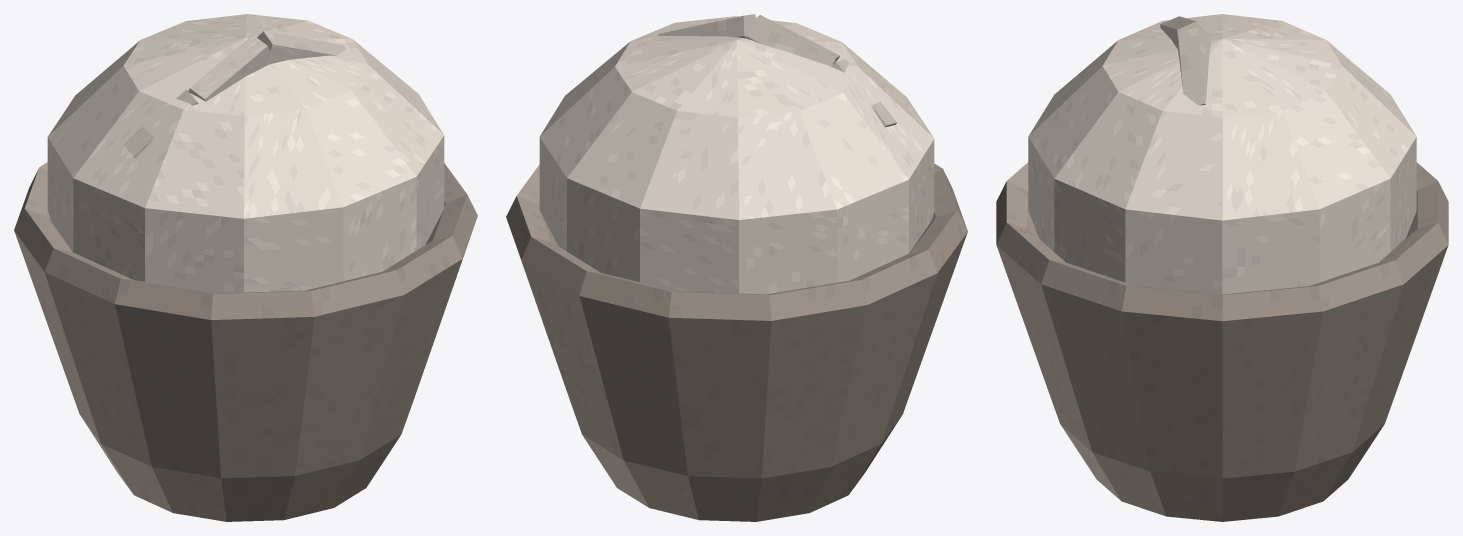
Rendered from icecream_yogurt.glb.
3 views of the same model, side by side, from view 1: azimuth 30°, elevation 25°; view 2: azimuth 150°, elevation 25°; view 3: azimuth 270°, elevation 25° (orthographic).
Visible parts, largest first — view 1: block_dessert dish, block_frozen scoop, block_scoop ridges 1, block_scoop ridges 2, block_scoop ridges 0; view 2: block_frozen scoop, block_dessert dish, block_scoop ridges 1, block_scoop ridges 2; view 3: block_dessert dish, block_frozen scoop, block_scoop ridges 2, block_scoop ridges 1.
Boxes of the visible parts, <box> form: block_dessert dish: <box>14,162,477,521</box>; block_frozen scoop: <box>47,14,444,293</box>; block_scoop ridges 1: <box>188,35,269,101</box>; block_scoop ridges 2: <box>257,31,345,64</box>; block_scoop ridges 0: <box>123,89,198,158</box>; block_frozen scoop: <box>539,16,934,294</box>; block_dessert dish: <box>506,163,967,521</box>; block_scoop ridges 1: <box>746,15,839,66</box>; block_scoop ridges 2: <box>658,14,755,38</box>; block_dessert dish: <box>996,162,1448,521</box>; block_frozen scoop: <box>1028,14,1416,294</box>; block_scoop ridges 2: <box>1178,27,1210,105</box>; block_scoop ridges 1: <box>1160,16,1209,49</box>.
Bounding box in the file's own units: 0.1142 × 0.1203 × 0.1113.
Materials: 1 (1 with a texture image).
